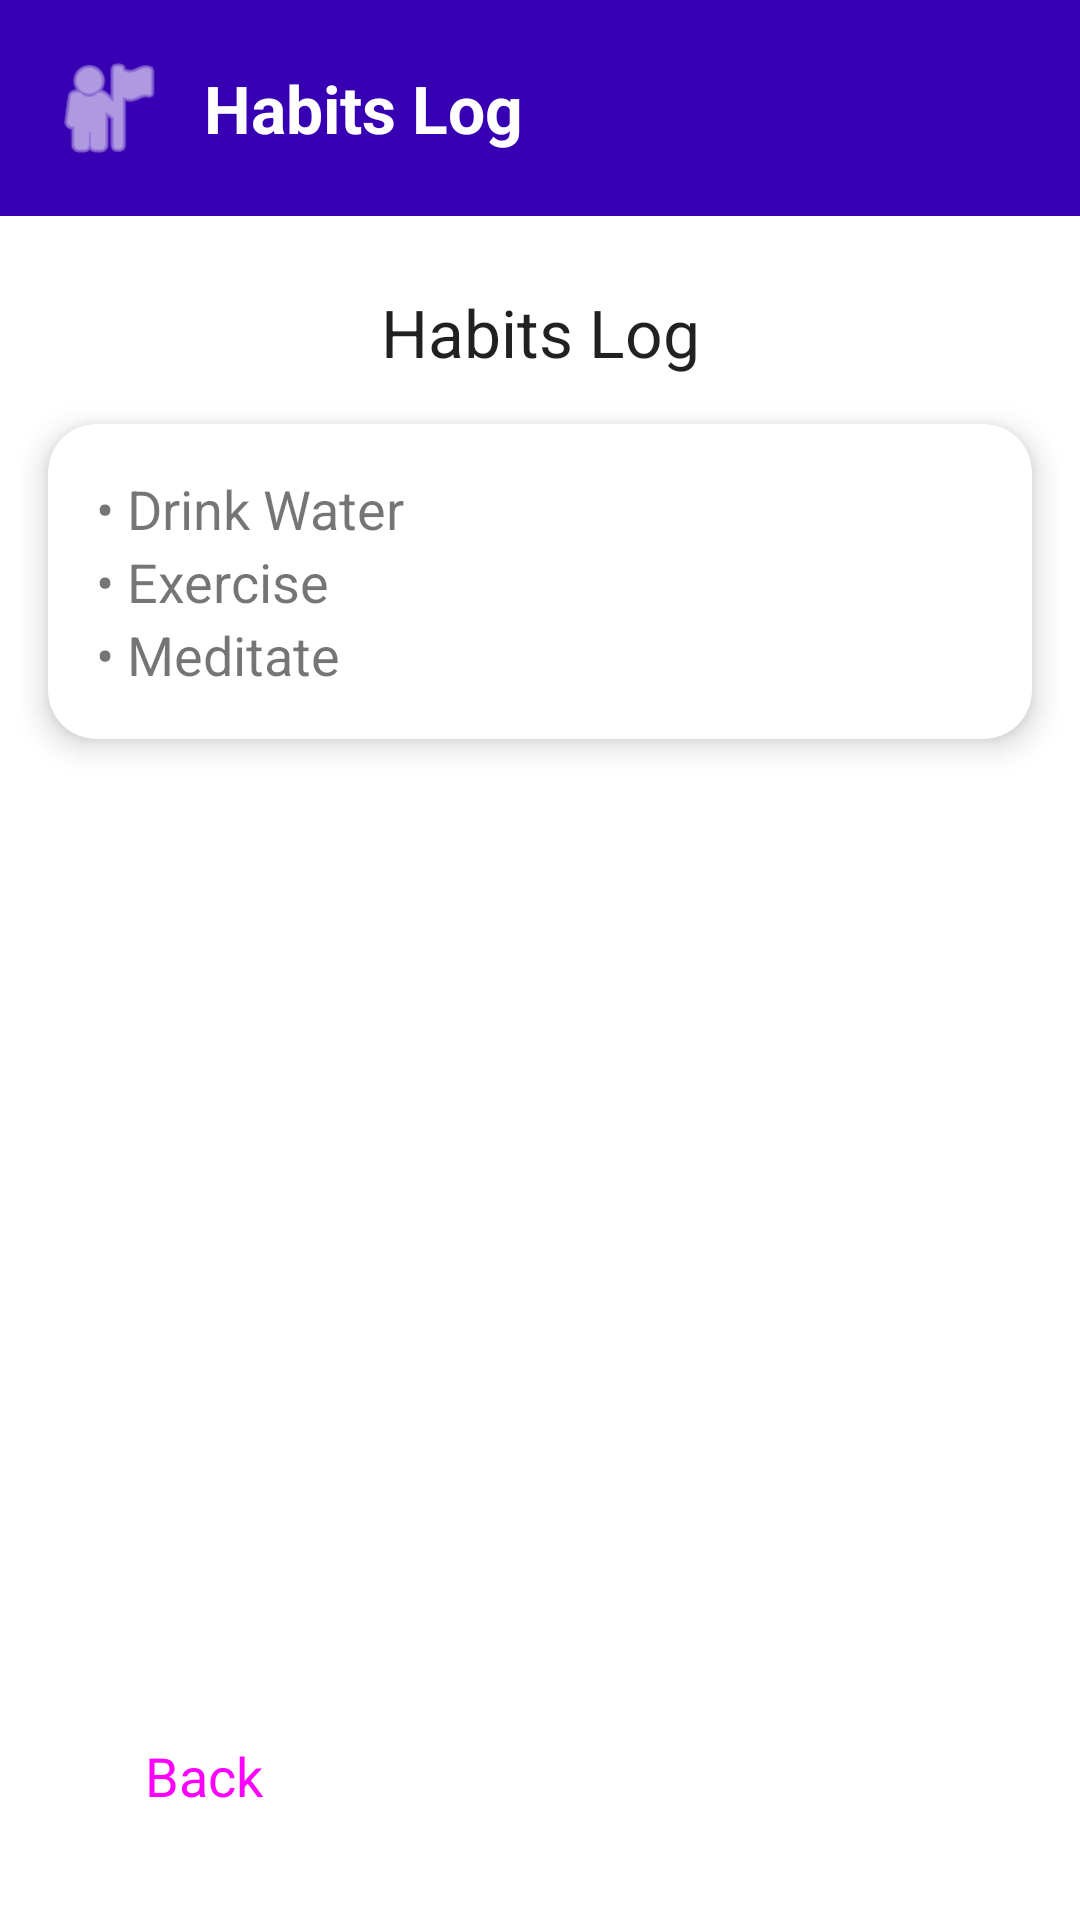

Icon bounding boxes for this 1080 x 1920 phone screenshot, format [x1, y1, x2, y2]:
App Icon: [64, 63, 154, 153]
